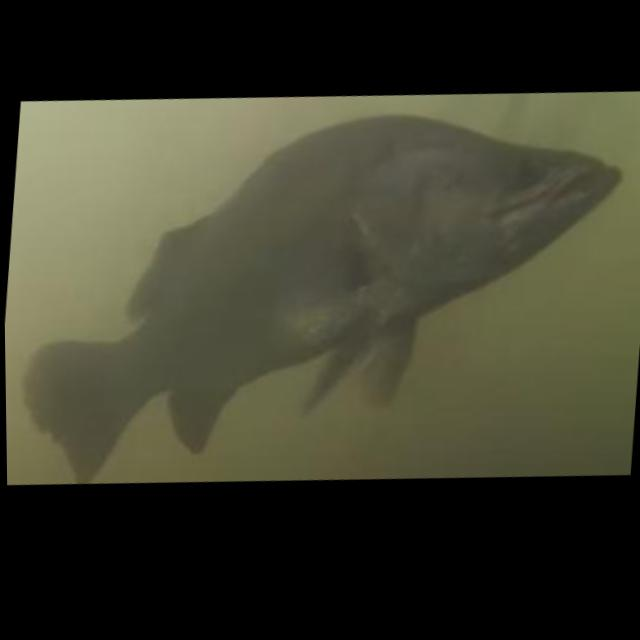Seabass: (6, 57, 629, 536)
